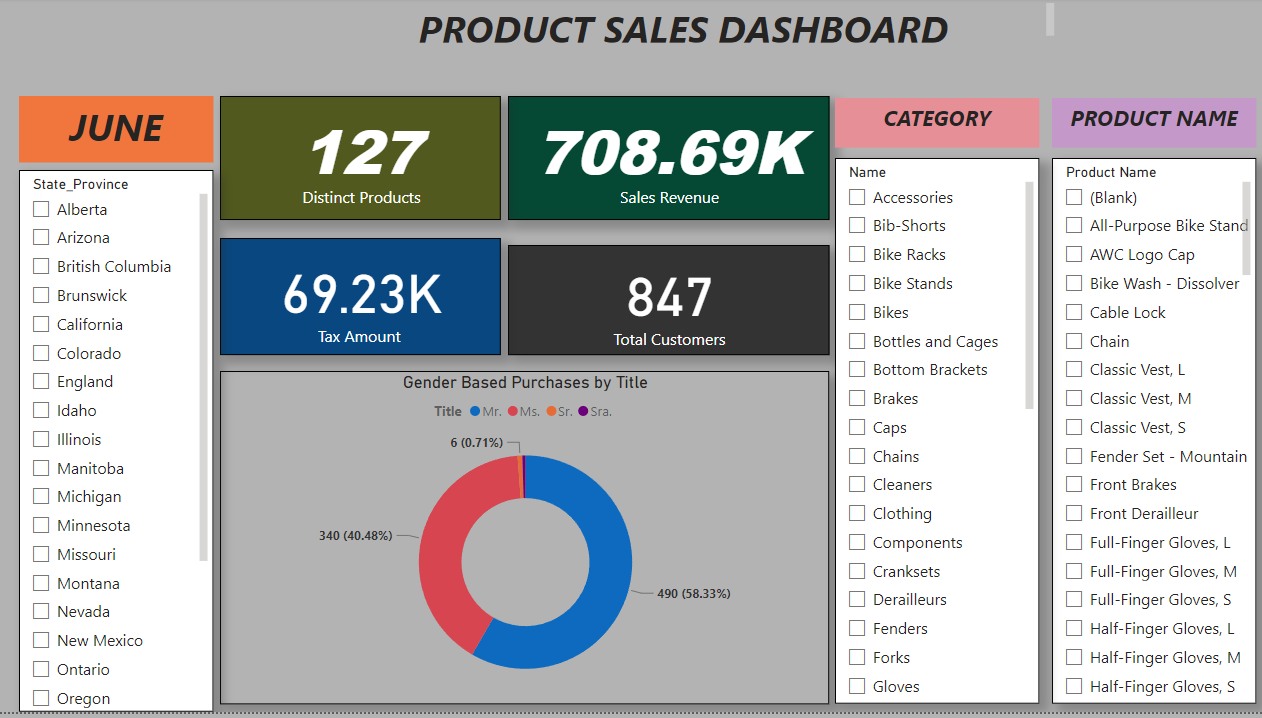

The page's visual inventory and layout, read from the dashboard file:
{"tool":"powerbi","page":{"name":"Page 1","canvas":[1280,720],"ordinal":0},"visuals":[{"type":"card","fields":{"Values":["Sum(SalesOrderDetail.Line_Total)"]},"box":[518,98.8,323.5,125],"z":0},{"type":"card","fields":{"Values":["Count(Customer.Customer_ID)"]},"box":[518,248.9,323.5,110.9],"z":1000},{"type":"slicer","fields":{"Values":["Product.Name"]},"box":[1066.3,161.3,205.6,550.3],"z":2000},{"type":"donutChart","fields":{"Y":["CountNonNull(Customer.Title)"],"Category":["Customer.Title"]},"box":[227.8,375.9,613.8,335.6],"z":4000},{"type":"card","fields":{"Values":["Count(ProductModelProductDescription.Product_Model_ID)"]},"box":[227.8,98.8,283.2,125],"z":6000},{"type":"card","fields":{"Values":["Sum(SalesOrderHeader.Tax_Amt)"]},"box":[227.8,241.9,283.2,117.9],"z":7000},{"type":"slicer","fields":{"Values":["address.State_Province"]},"box":[25.2,173.4,195.5,546.3],"z":8000},{"type":"textbox","box":[324.5,0,748.9,50.4],"z":9000},{"type":"textbox","box":[25.2,98.8,195.5,66.5],"z":10000},{"type":"textbox","box":[1066.3,100.8,205.6,50.4],"z":11000},{"type":"textbox","box":[847.6,100.8,205.6,50.4],"z":11001},{"type":"slicer","fields":{"Values":["ProductCategory.Name"]},"box":[847.6,161.3,205.6,550.3],"z":11002}]}

Visuals, with their boxes in screenshot pixels (x1, y1, x2, y2), scaled from the page's 1280x720 canvas onto the 1262x718 screenshot:
card - Sum(SalesOrderDetail.Line_Total): crop(511, 99, 830, 223)
card - Count(Customer.Customer_ID): crop(511, 248, 830, 359)
slicer - Product.Name: crop(1051, 161, 1254, 710)
donutChart - CountNonNull(Customer.Title) x Customer.Title: crop(225, 375, 830, 710)
card - Count(ProductModelProductDescription.Product_Model_ID): crop(225, 99, 504, 223)
card - Sum(SalesOrderHeader.Tax_Amt): crop(225, 241, 504, 359)
slicer - address.State_Province: crop(25, 173, 218, 717)
textbox: crop(320, 0, 1058, 50)
textbox: crop(25, 99, 218, 165)
textbox: crop(1051, 101, 1254, 151)
textbox: crop(836, 101, 1038, 151)
slicer - ProductCategory.Name: crop(836, 161, 1038, 710)
